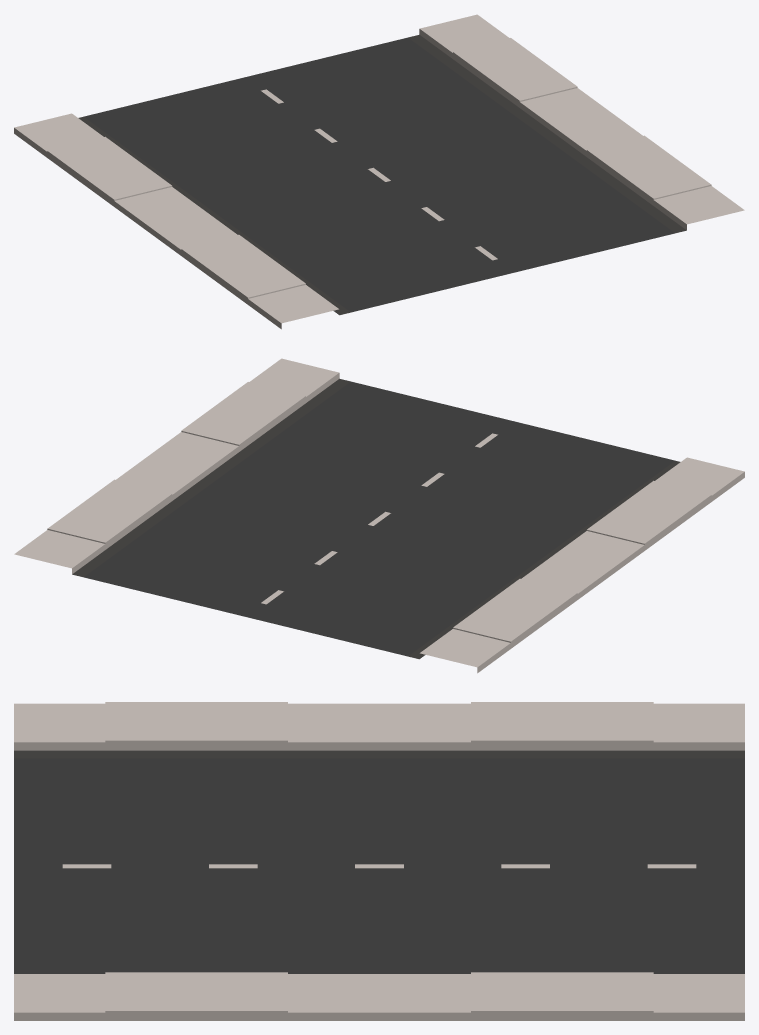
File: street.glb
3 renders of one model, top to bottom at view 1: azimuth 30°, elevation 25°; view 2: azimuth 150°, elevation 25°; view 3: azimuth 270°, elevation 25°, orthographic. The views are drawn at different scales.
Parts seen in each view (by area): view 1: Street_Straight; view 2: Street_Straight; view 3: Street_Straight.
Part boxes in pixels (left/top/right/bottom): Street_Straight: left=14, top=14, right=744, bottom=329; Street_Straight: left=14, top=358, right=744, bottom=673; Street_Straight: left=14, top=702, right=744, bottom=1020.
Size of the model in its own units: 8 by 0.1201 by 8.
1 material, 1 textured.
